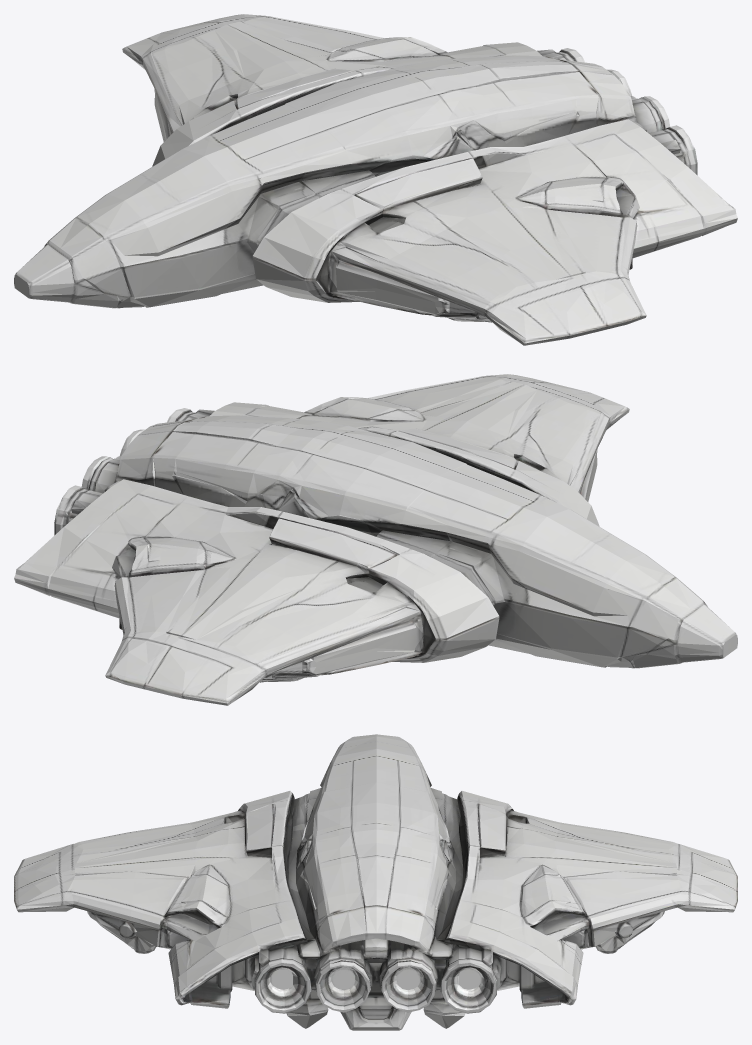
Rendered from FighterDroneType2.glb.
3 renders of one model, top to bottom at view 1: azimuth 30°, elevation 25°; view 2: azimuth 150°, elevation 25°; view 3: azimuth 270°, elevation 25°, orthographic. The views are drawn at different scales.
Visible parts, largest first — view 1: tripo_node_c89fd4ea-1123-44be-bd8e-1d61cace7cf7; view 2: tripo_node_c89fd4ea-1123-44be-bd8e-1d61cace7cf7; view 3: tripo_node_c89fd4ea-1123-44be-bd8e-1d61cace7cf7.
Part boxes in pixels (bbox=[...]): tripo_node_c89fd4ea-1123-44be-bd8e-1d61cace7cf7: bbox=[14, 14, 737, 345]; tripo_node_c89fd4ea-1123-44be-bd8e-1d61cace7cf7: bbox=[14, 374, 737, 705]; tripo_node_c89fd4ea-1123-44be-bd8e-1d61cace7cf7: bbox=[14, 734, 737, 1030].
Size of the model in its own units: 0.862 by 0.2169 by 0.9988.
1 material, 1 textured.
